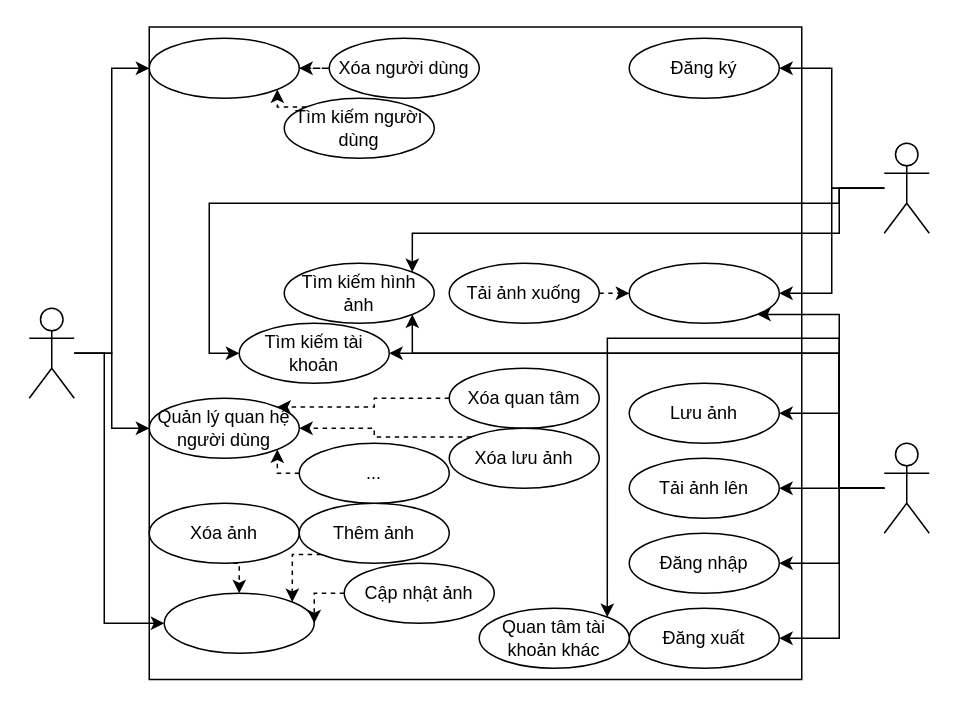
The diagram is 956 pixels wide and 705 high, and some of its shapes have lost their labels. The shapes that lost their labels are listed below. From the top down, each one's box as (x1, y1, x2, y2) in pixels, then its label:
(148, 37, 299, 98): Quản lý người dùng
(883, 142, 929, 233): Guest
(628, 262, 779, 323): Xem ảnh
(28, 307, 74, 398): Admin
(883, 442, 929, 533): User
(163, 592, 314, 653): Quản lý ảnh
